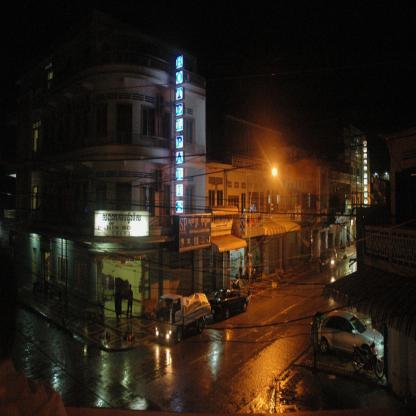Car: (313, 303, 387, 371), (209, 288, 248, 320)
Truck: (148, 287, 212, 332)
